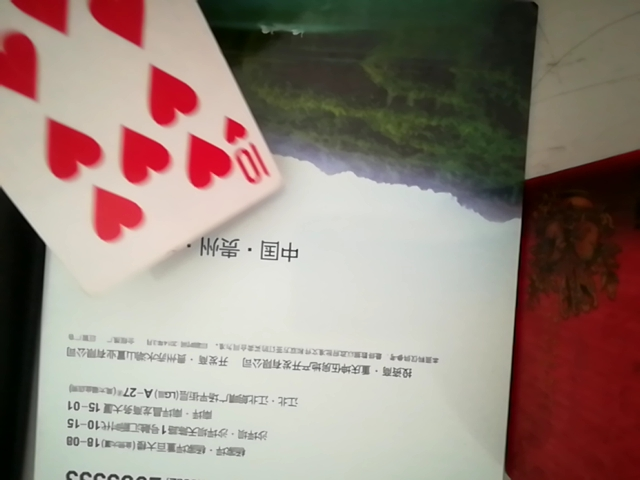hx 10: (0, 4, 278, 307)
